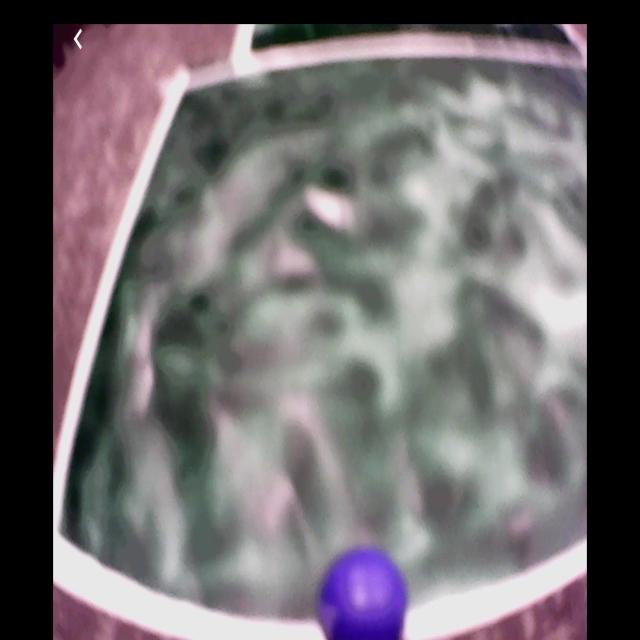ball: (320, 547, 409, 640)
